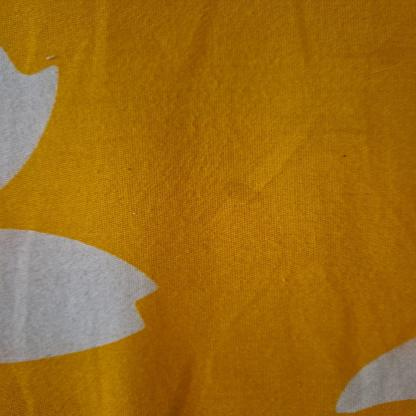spot: (219, 176, 271, 210), (124, 163, 141, 179), (335, 152, 356, 160)
